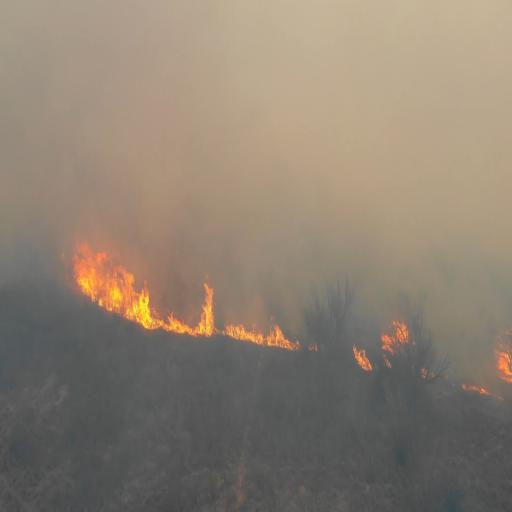fire: (70, 248, 150, 335), (150, 280, 216, 341), (223, 319, 292, 357), (378, 317, 410, 364)
smoke: (148, 0, 268, 223)
